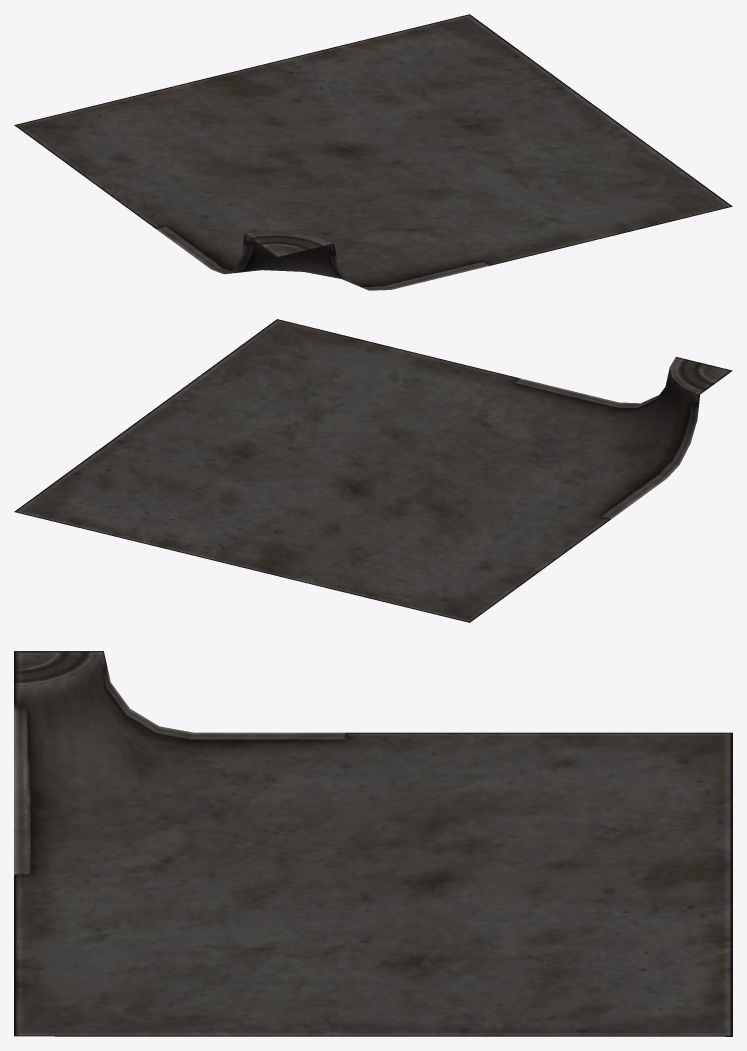
File: pplant_ground_edge_convex_sunk_grey.dae
3 renders of one model, top to bottom at view 1: azimuth 30°, elevation 25°; view 2: azimuth 150°, elevation 25°; view 3: azimuth 270°, elevation 25°, orthographic. The views are drawn at different scales.
Visible parts, largest first — view 1: edge_convex_sunk_grey; view 2: edge_convex_sunk_grey; view 3: edge_convex_sunk_grey.
Part boxes in pixels (x1=…): edge_convex_sunk_grey: x1=14, y1=14, x2=732, y2=290; edge_convex_sunk_grey: x1=14, y1=319, x2=732, y2=622; edge_convex_sunk_grey: x1=14, y1=651, x2=732, y2=1036.
Size of the model in its own units: 2 by 0.2513 by 2.
